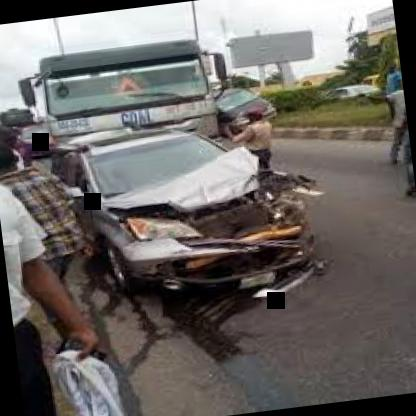accident: (55, 96, 347, 324)
